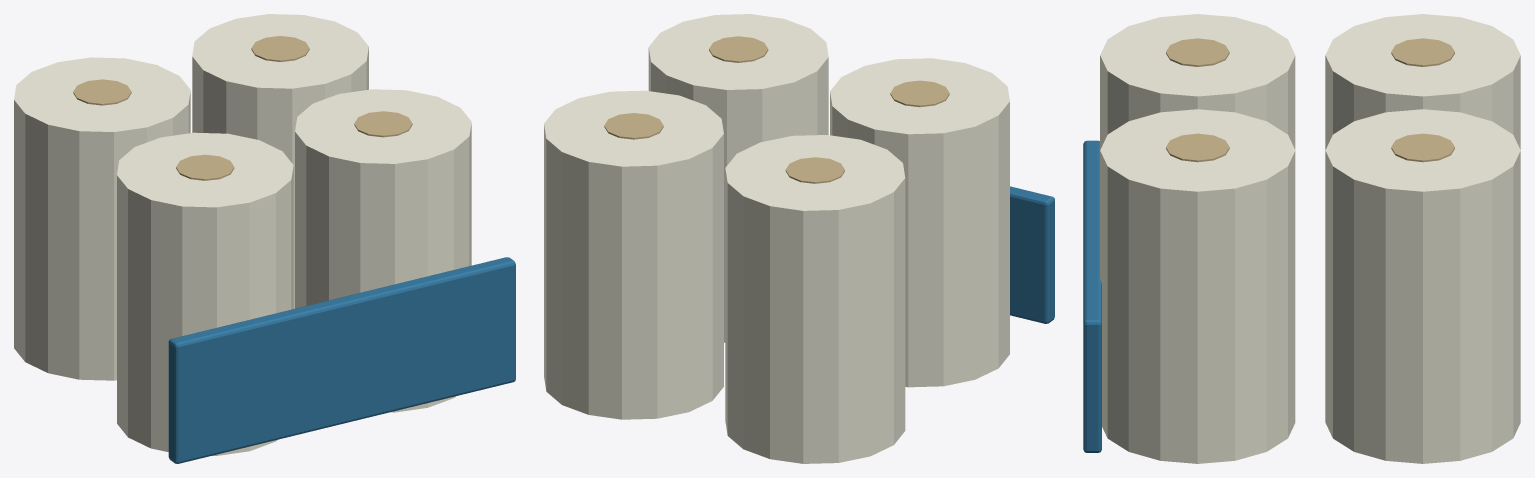
The model's file is toilet_paper.fbx.
The picture shows the model from 3 angles, left to right: view 1: azimuth 30°, elevation 25°; view 2: azimuth 150°, elevation 25°; view 3: azimuth 270°, elevation 25°; orthographic projection. The views are drawn at different scales.
Parts seen in each view (by area): view 1: toilet_paper; view 2: toilet_paper; view 3: toilet_paper.
Boxes of the visible parts, left/top/right/bottom form: toilet_paper: left=14, top=14, right=515, bottom=463; toilet_paper: left=544, top=14, right=1054, bottom=463; toilet_paper: left=1083, top=14, right=1520, bottom=463.
Size of the model in its own units: 23 by 16.2 by 23.3.
